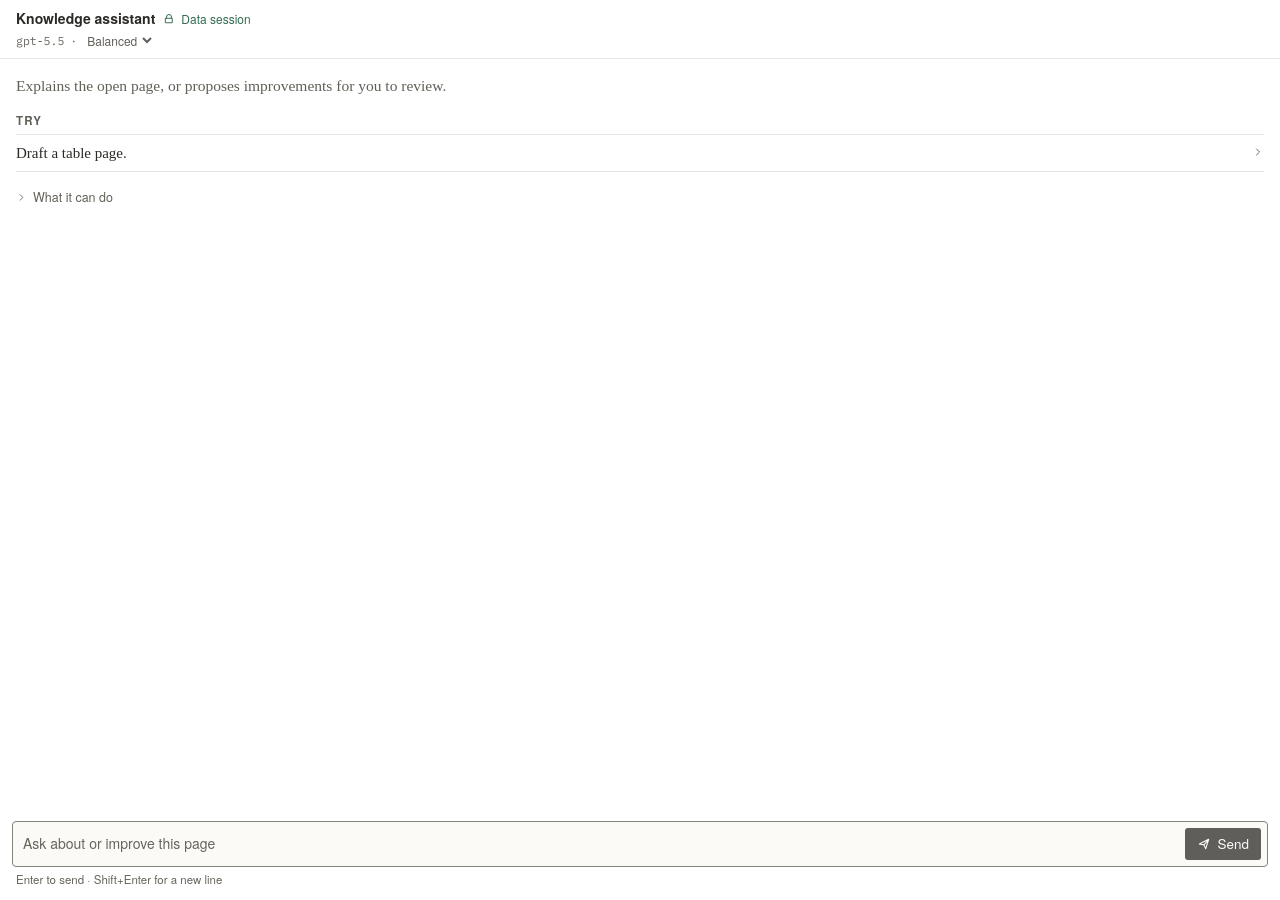
gives the knowledge tab's chat a compact intro: a title, one sentence, its starters, and what it can do folded
The width and height of the screenshot is (1280, 900).
expect the heading "Knowledge assistant" is shown: met, box [16, 8, 155, 29]
expect the element with test id "compact-intro" shows "Explains the open page, or proposes improvements for you to review.": met, box [16, 77, 446, 94]
Click the button "What it can do" at (64, 198), box [16, 188, 113, 207]
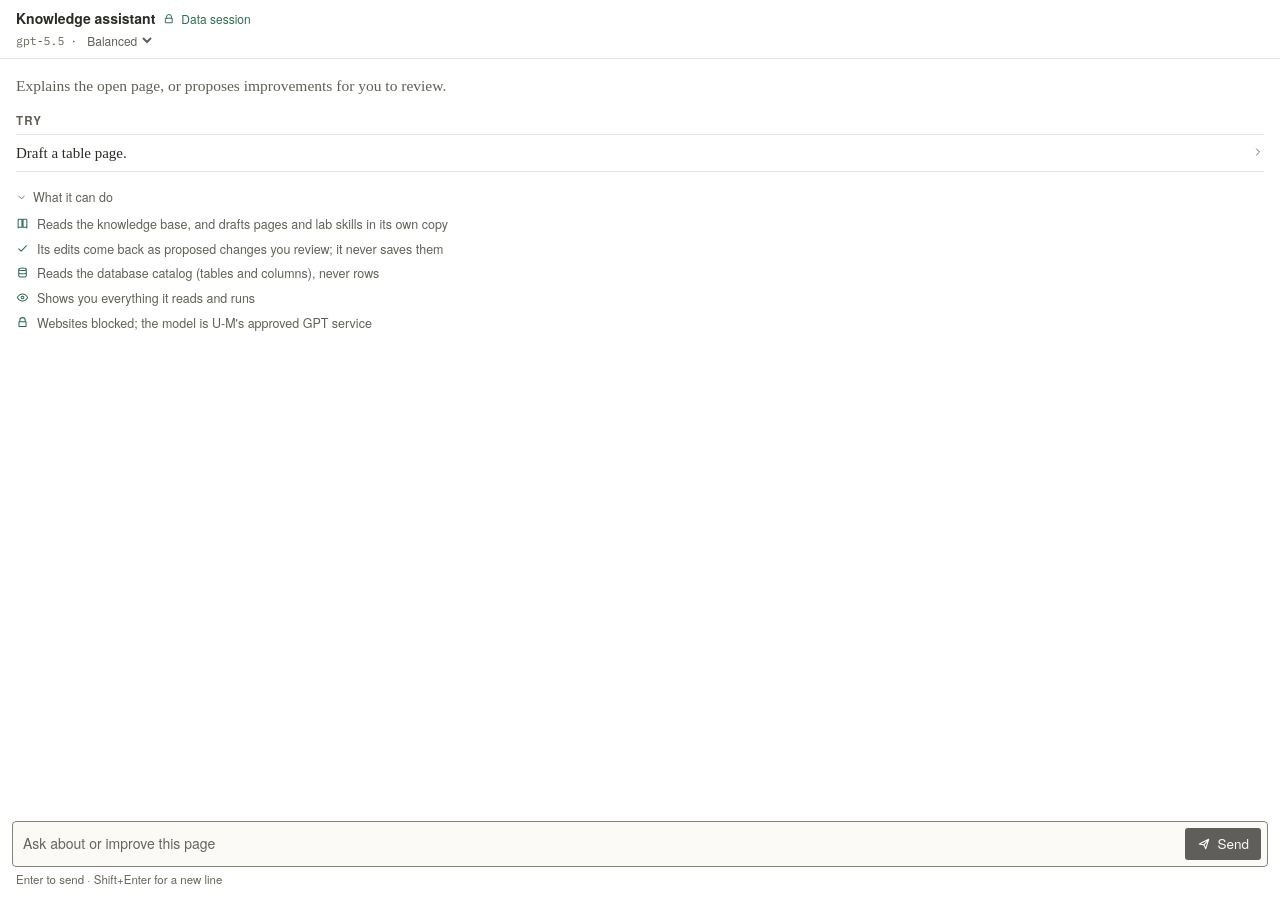
expect the button "What it can do" is expanded: met, box [16, 188, 113, 207]
expect the list item "Reads the knowledge base, and drafts pages and lab skills in its own copy" is shown: met, box [16, 215, 448, 233]
expect the list item "Websites blocked; the model is U-M's approved GPT service" is shown: met, box [16, 314, 372, 332]
